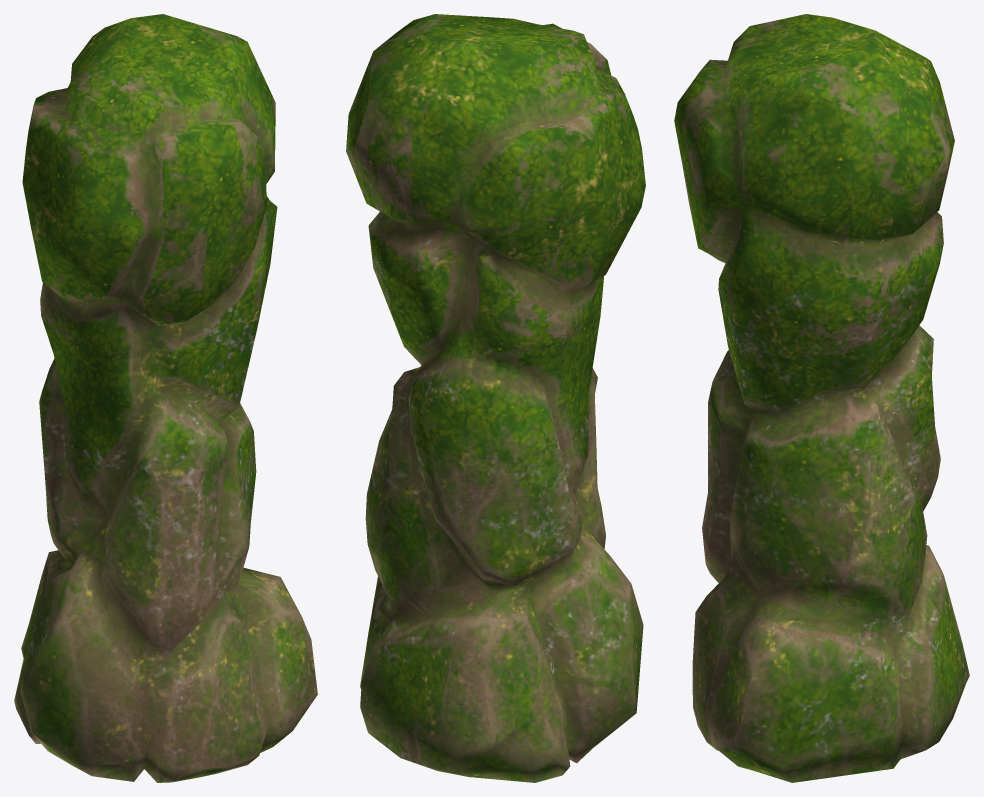
The model's file is sb_obj_nature007_Rock04e.fbx.
3 renders of one model, left to right at view 1: azimuth 30°, elevation 25°; view 2: azimuth 150°, elevation 25°; view 3: azimuth 270°, elevation 25°, orthographic.
Visible parts, largest first — view 1: sb_obj_nature007_Rock04e; view 2: sb_obj_nature007_Rock04e; view 3: sb_obj_nature007_Rock04e.
Part boxes in pixels (left/top/right/bottom): sb_obj_nature007_Rock04e: left=14, top=14, right=317, bottom=782; sb_obj_nature007_Rock04e: left=346, top=14, right=645, bottom=782; sb_obj_nature007_Rock04e: left=674, top=14, right=969, bottom=782.
Bounding box in the file's own units: 1.34 × 3.45 × 1.31.
